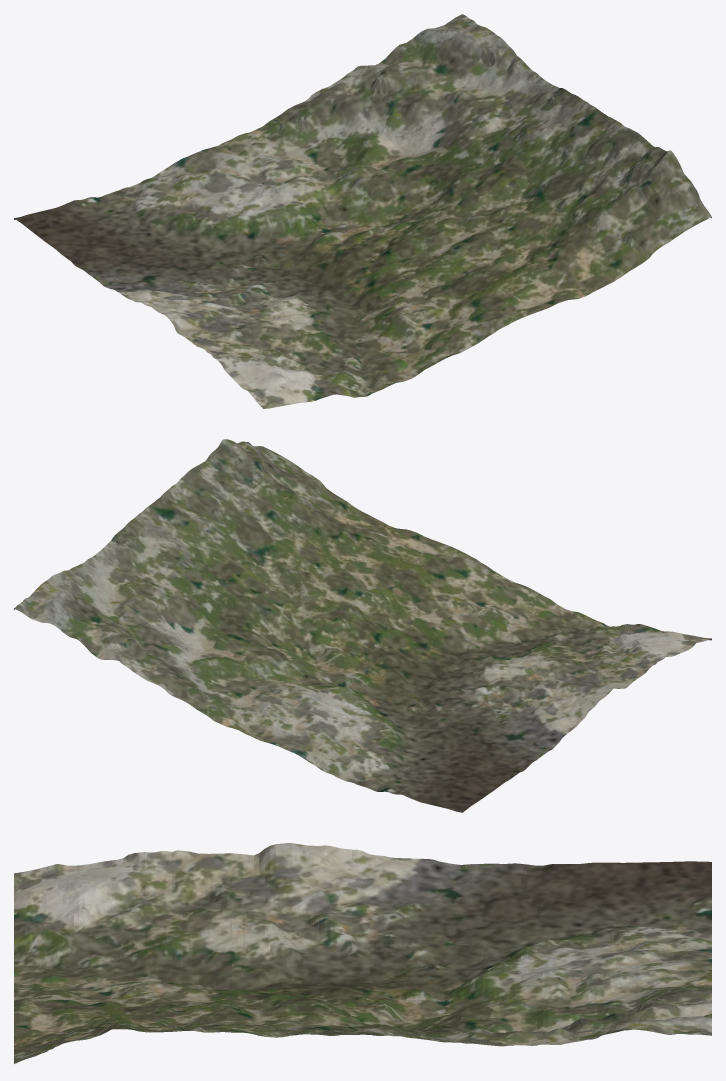
3 renders of one model, top to bottom at view 1: azimuth 30°, elevation 25°; view 2: azimuth 150°, elevation 25°; view 3: azimuth 270°, elevation 25°, orthographic. The views are drawn at different scales.
Bounding box in the file's own units: 250 × 71.25 × 241.
1 material, 1 textured.
